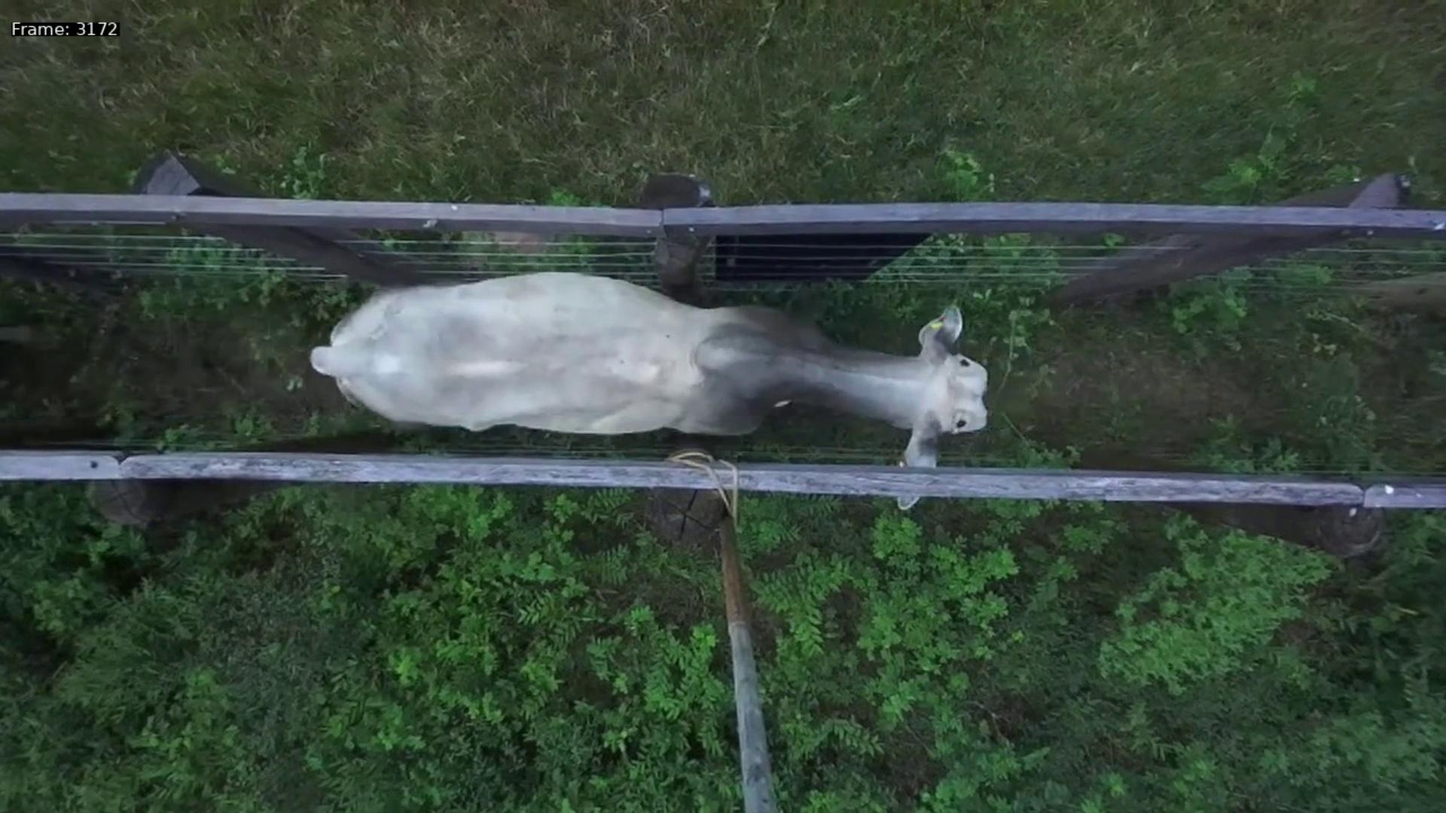cattle: (307, 267, 990, 492)
